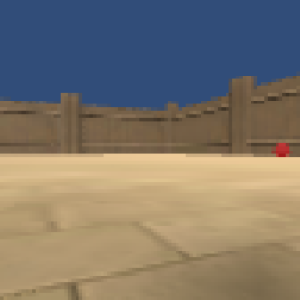badGoal: (270, 138, 291, 160)
